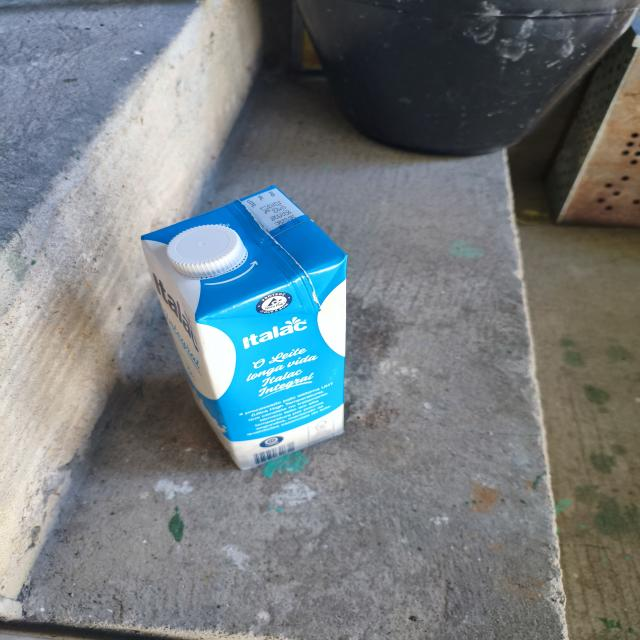Caixa de Leite: (130, 180, 365, 471)
